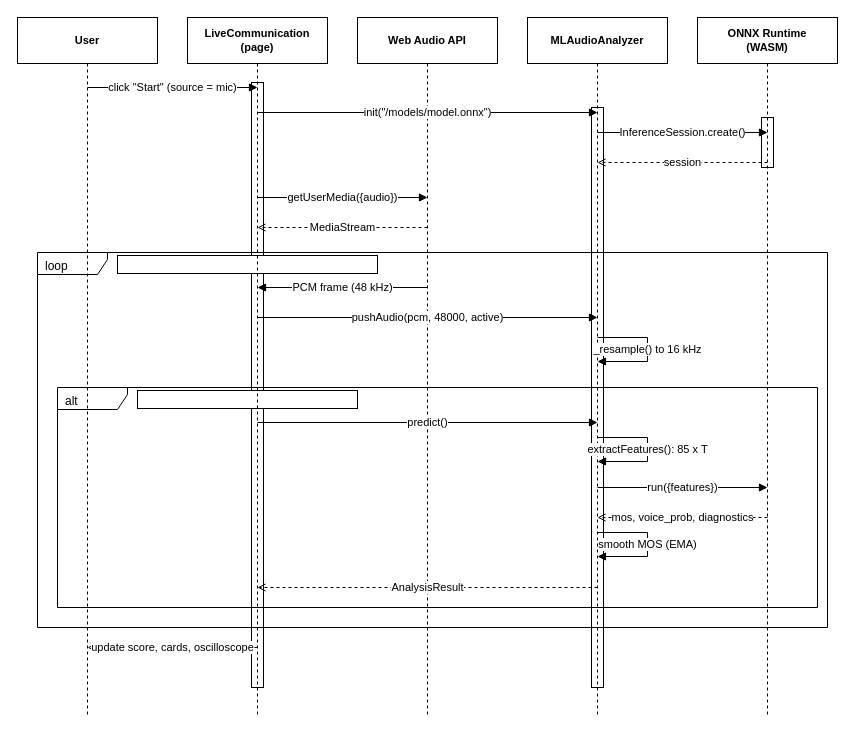
This 855x736 diagram has some shape labels left out. Here are the shapes that lost their labels. From the top down, the centre of each, then its label:
point (247, 264): [every audio callback while running]
point (247, 399): [window full and speech active]
